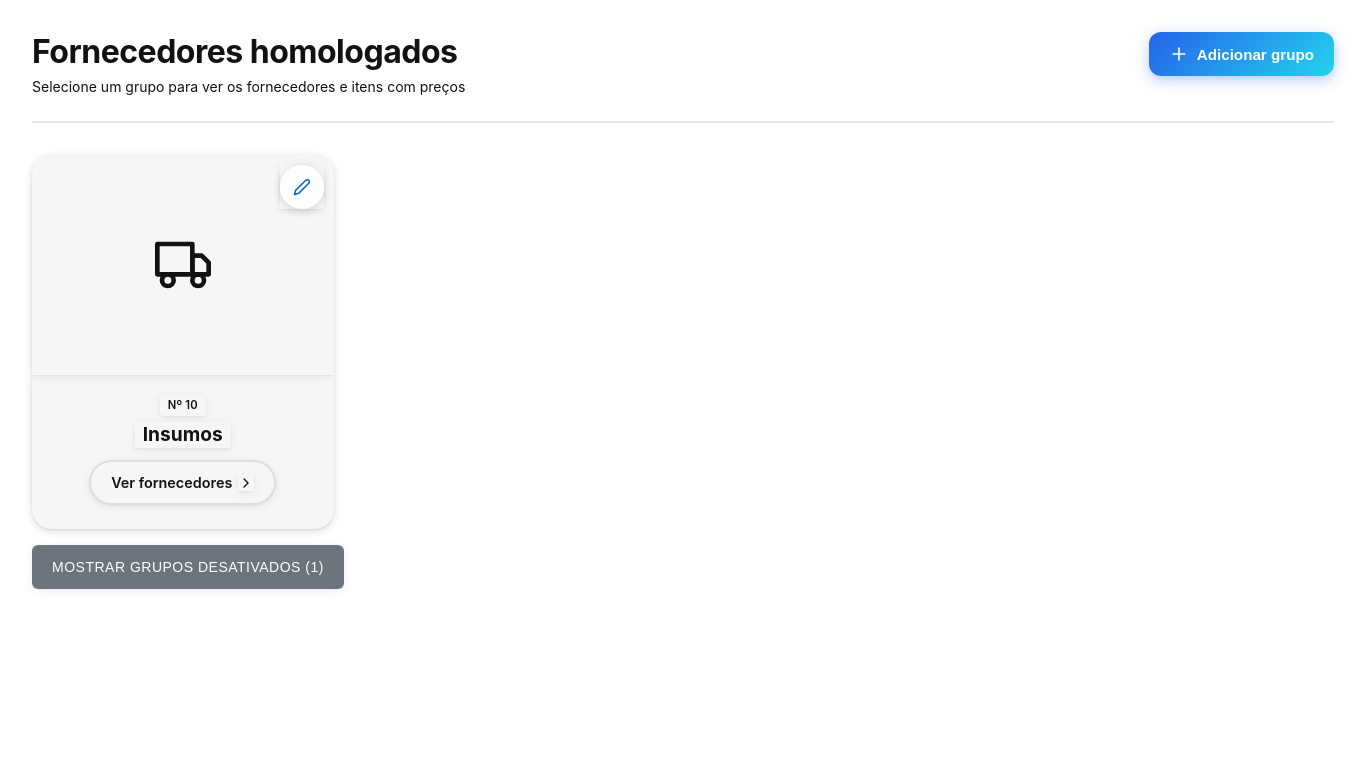
it: GruposFornecedores — RN-103.06 grupos desativados e Reativar › reativado o ultimo desativado, a secao fecha — o proximo "Remover grupo" nao a reabre sozinha
This screenshot has width=1366, height=768.
Step 1. Click the button with test id "toggle-desativados" → click(188, 567), box [32,545,344,589]
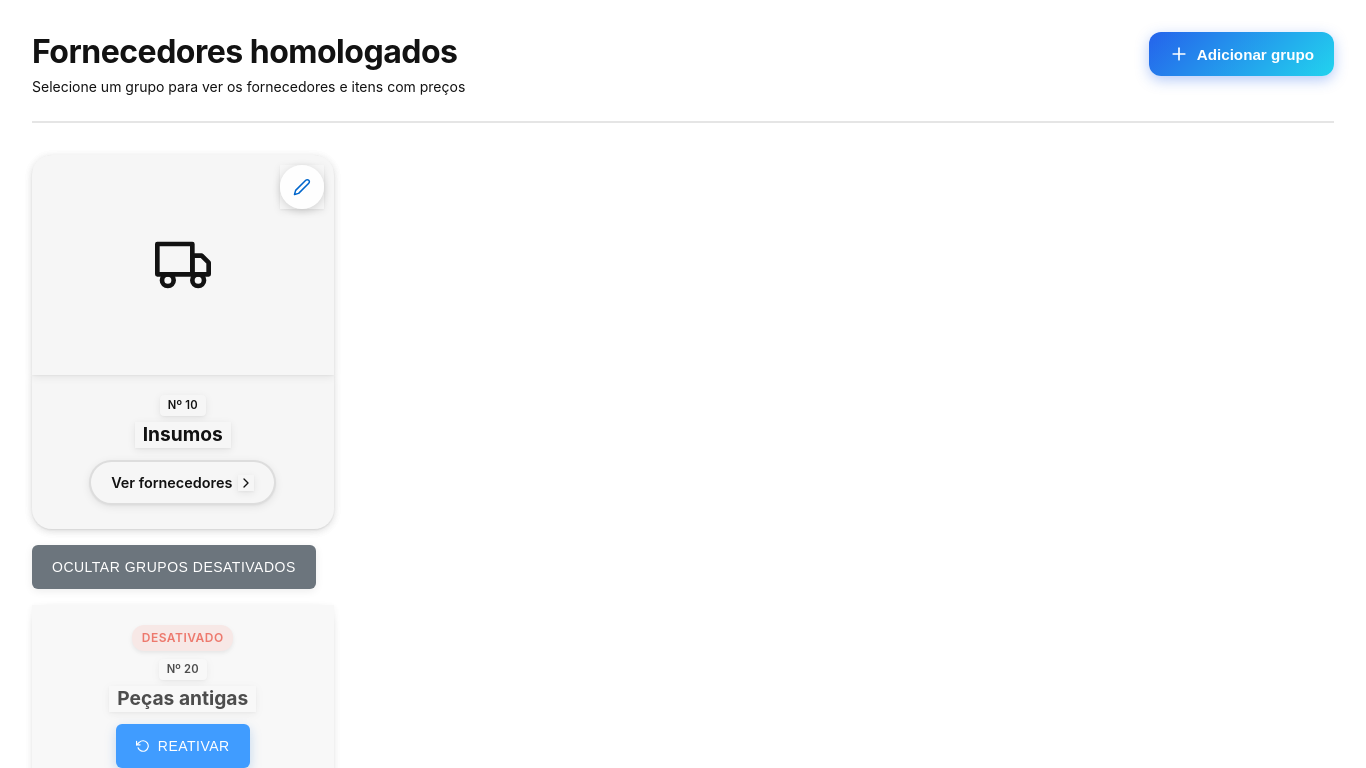
Step 2. Click the button "Reativar" → click(183, 746), box [116,724,250,767]
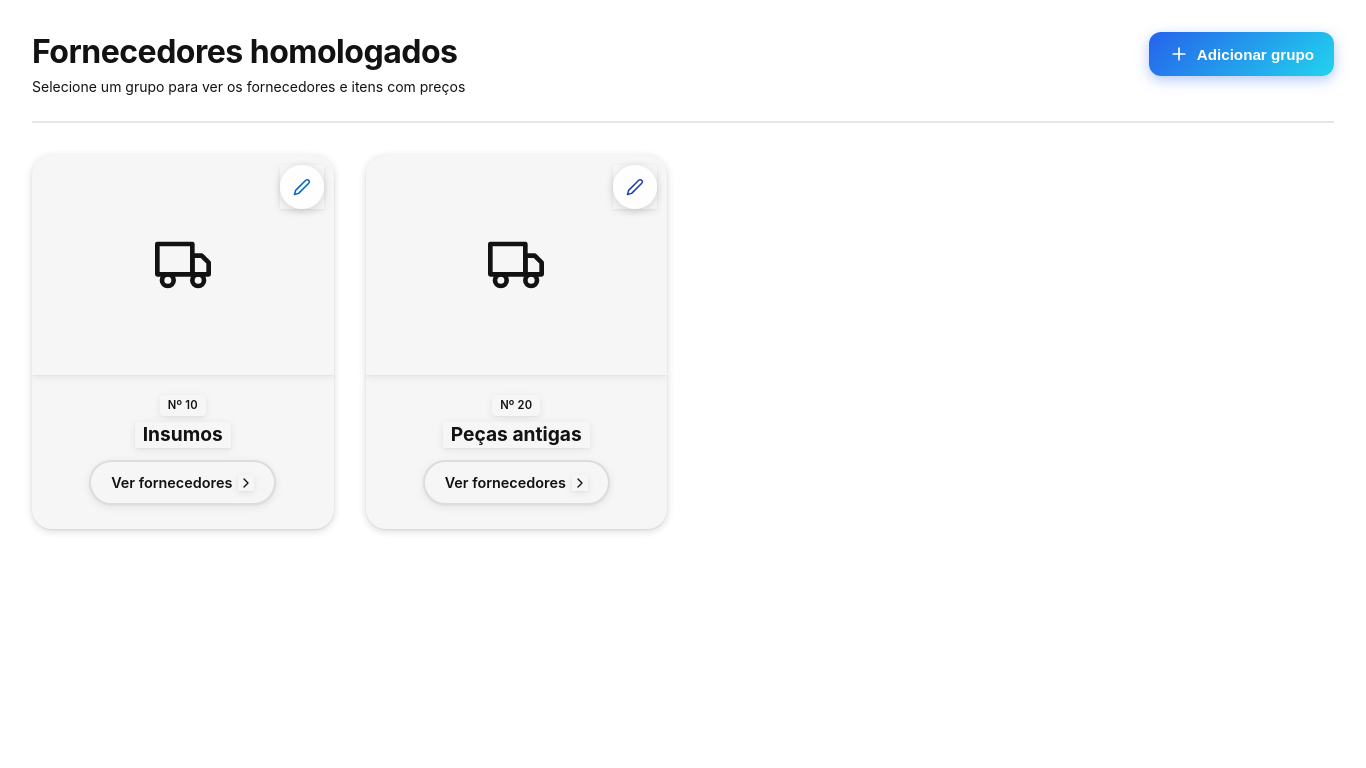
Now the button with test id "toggle-desativados" is gone
Step 3. Click the 1st button named "Editar grupo" → click(302, 187), box [280,165,324,209]
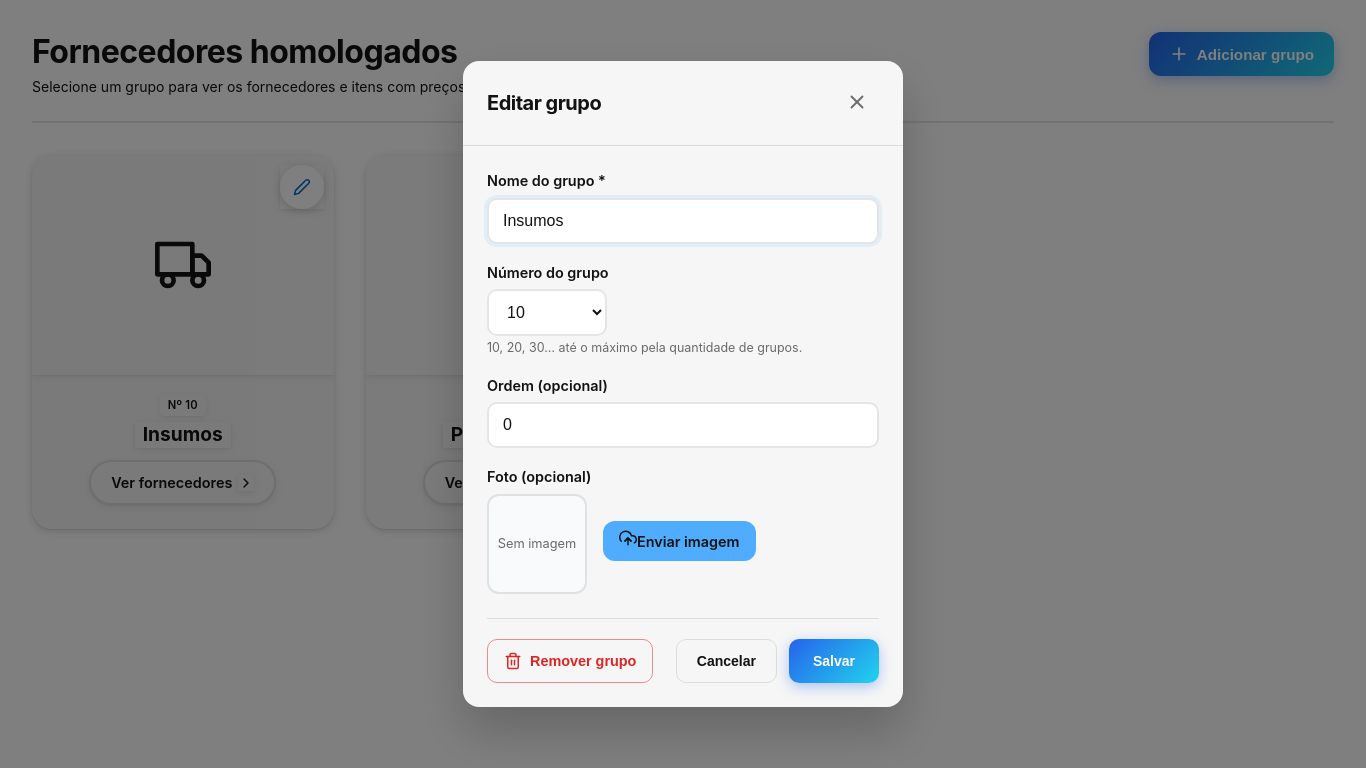
Step 4. Click the button "Remover grupo" → click(570, 661), box [487,639,653,683]
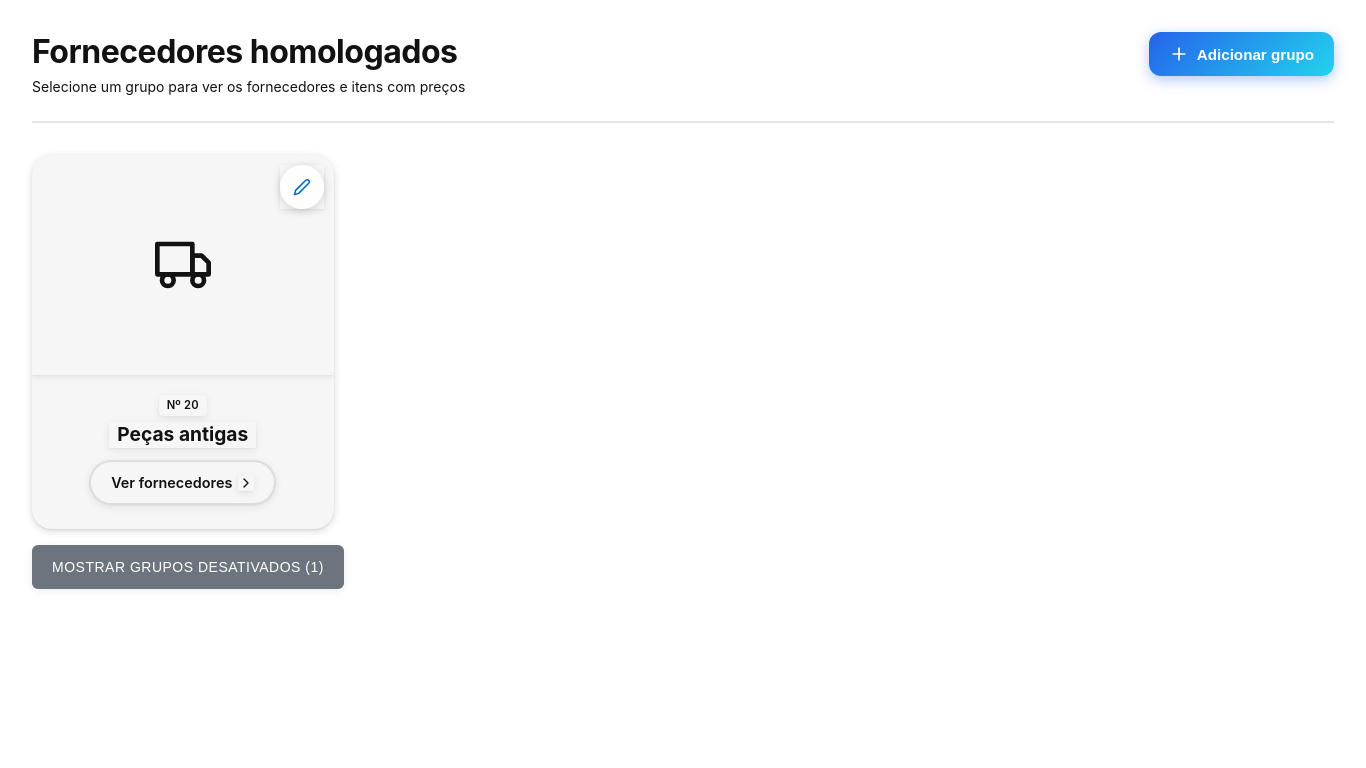
Now the button with test id "toggle-desativados" reads "Mostrar grupos desativados (1)", box [32,545,344,589]
